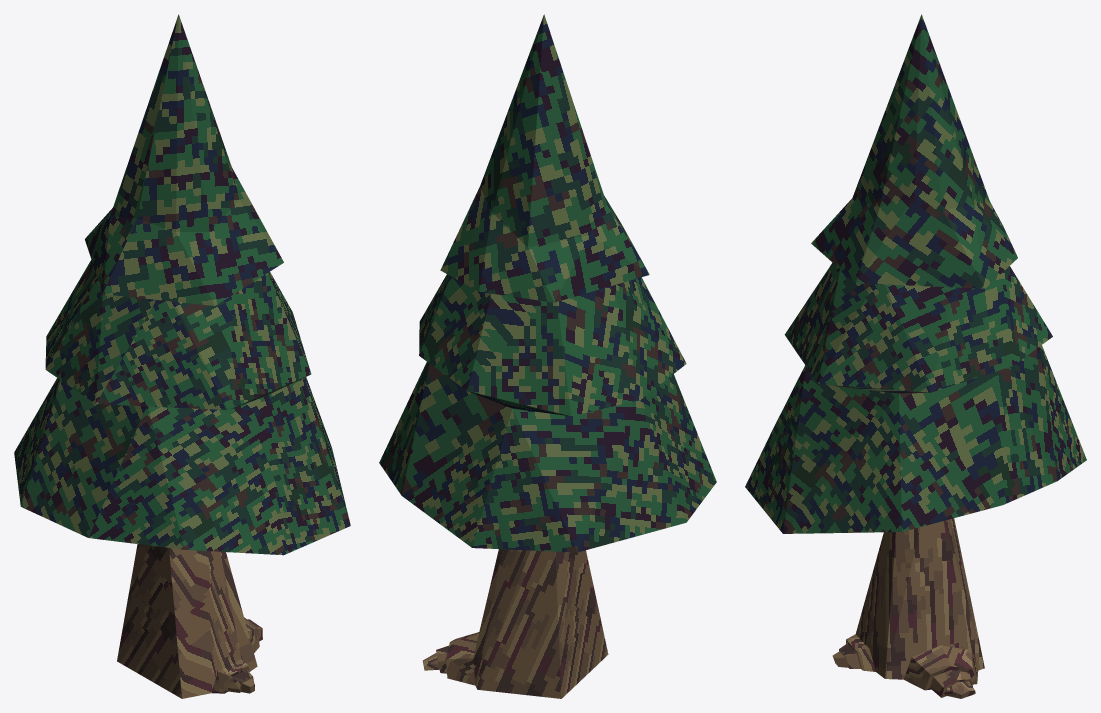
The model's file is tree_small.fbx.
3 views of the same model, side by side, from view 1: azimuth 30°, elevation 25°; view 2: azimuth 150°, elevation 25°; view 3: azimuth 270°, elevation 25° (orthographic). The views are drawn at different scales.
Parts seen in each view (by area): view 1: Small_Tree; view 2: Small_Tree; view 3: Small_Tree.
Part boxes in pixels (x1=…): Small_Tree: x1=14, y1=14, x2=350, y2=698; Small_Tree: x1=379, y1=14, x2=716, y2=698; Small_Tree: x1=745, y1=14, x2=1086, y2=698.
Bounding box in the file's own units: 440 × 942 × 457.
